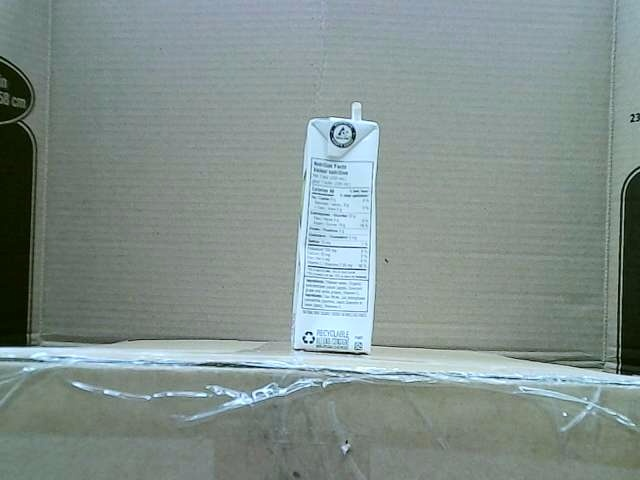JuiceBox: (290, 101, 380, 358)
